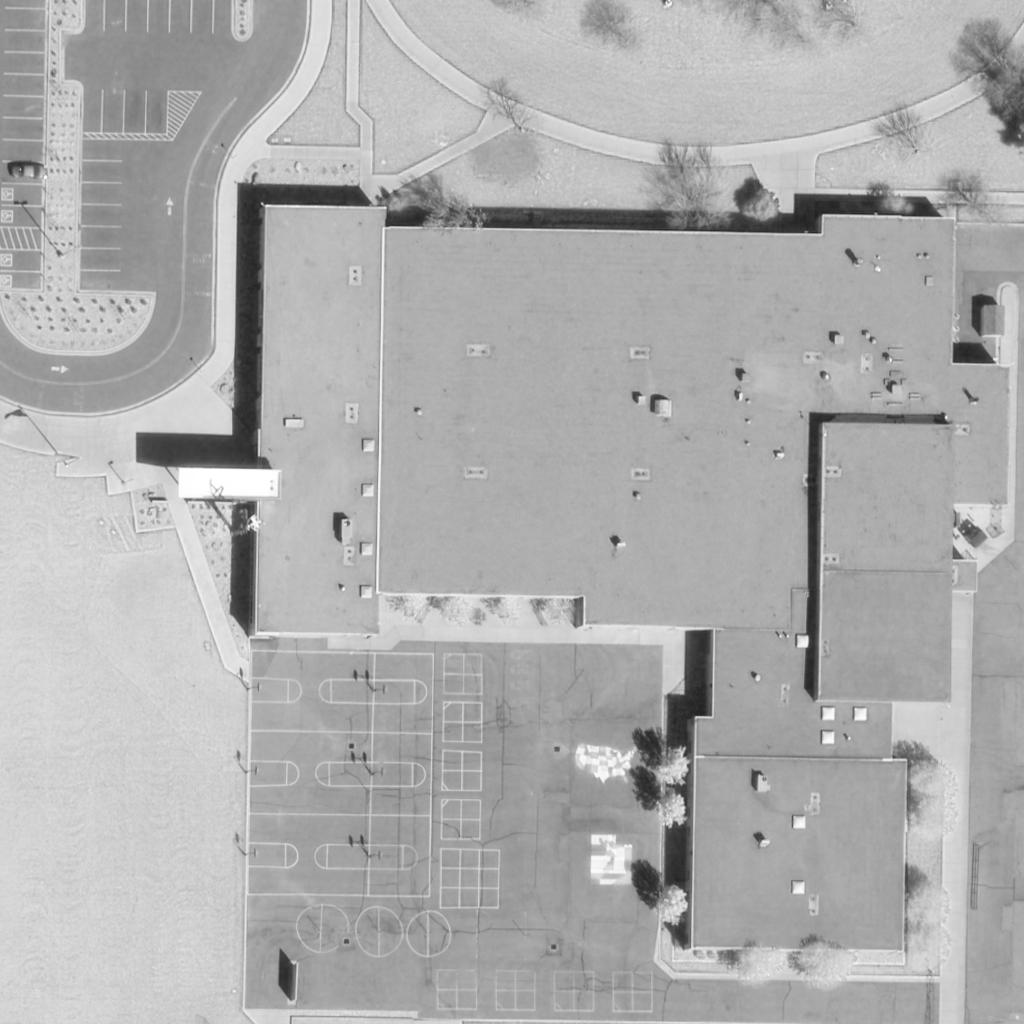vehicle: (8, 162, 48, 180)
